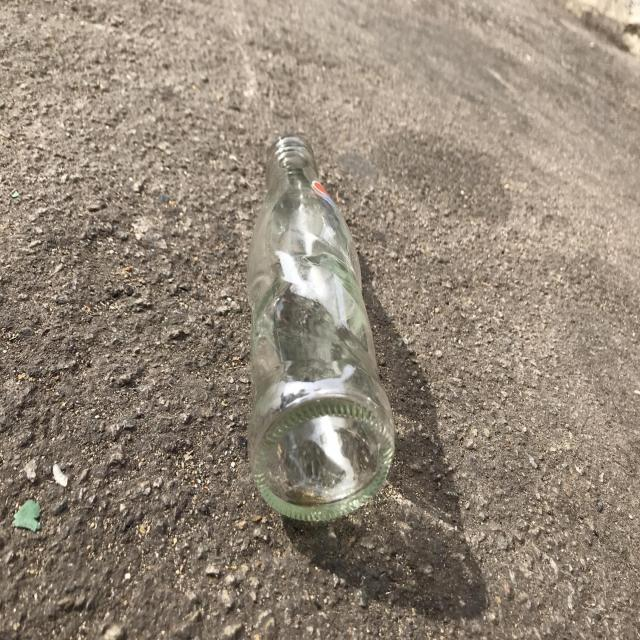glass: (247, 134, 395, 522)
